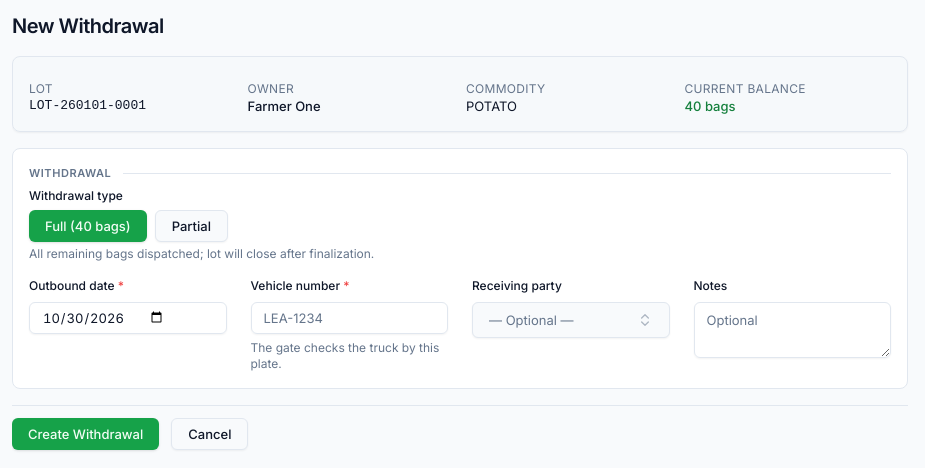
Test: WithdrawPage — searchable receiving party › warns client-side when the outbound date exceeds the facility backdating window
Expected: the text "LOT-260101-0001" is shown, left=29, top=98, right=146, bottom=113
Type "2026-01-01" into the date field labelled "Outbound date *". click: [128, 318]
box: left=29, top=302, right=226, bottom=334
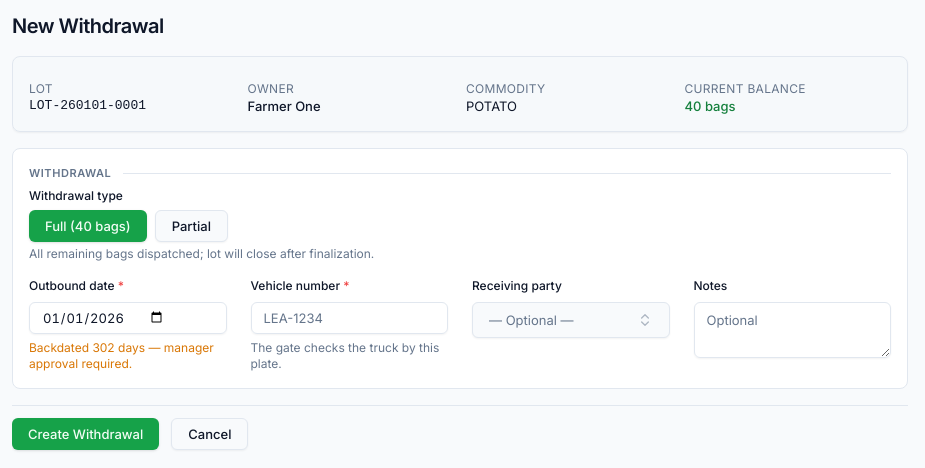
Expected: the text "Backdated 302 days — manager approval required." is shown, left=29, top=340, right=226, bottom=372
